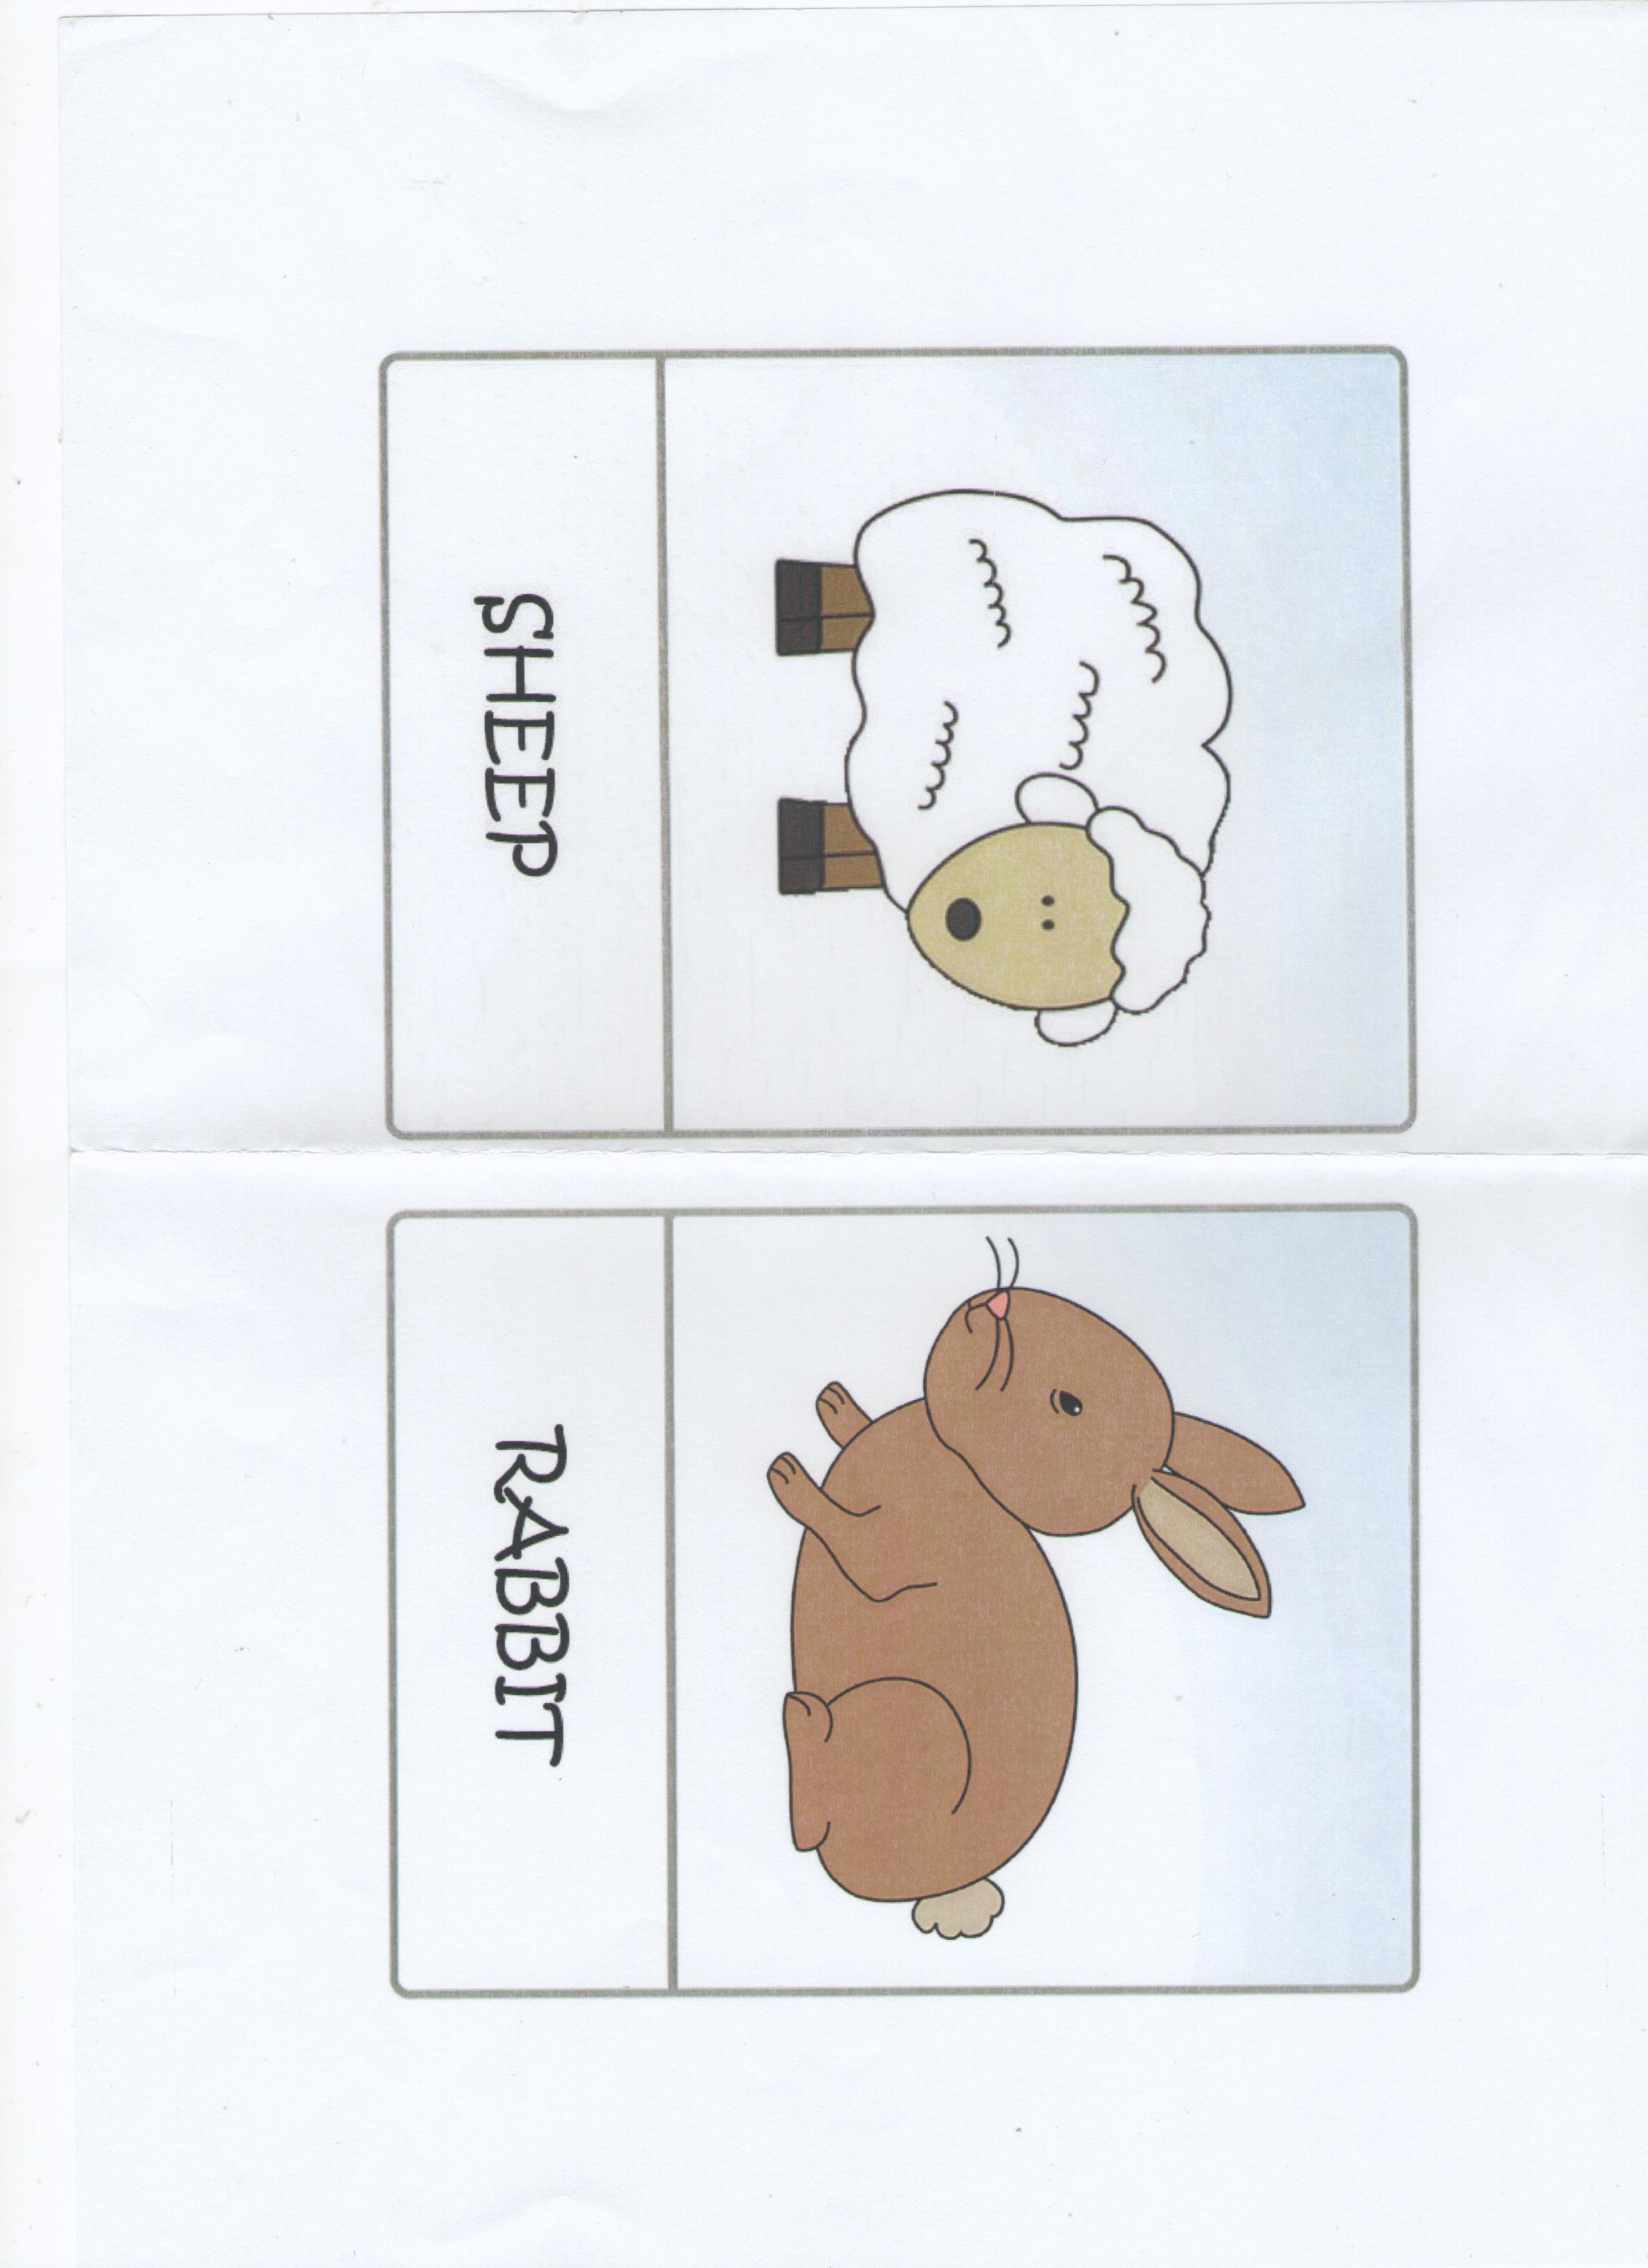coniglio: (417, 1232, 1341, 1957)
pecora: (379, 363, 1322, 1091)
